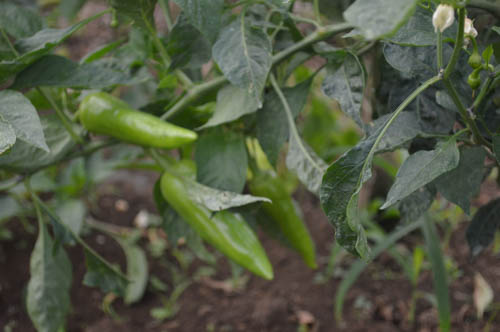ChiliPepper: (160, 166, 272, 283), (248, 172, 317, 269), (80, 96, 197, 151)
